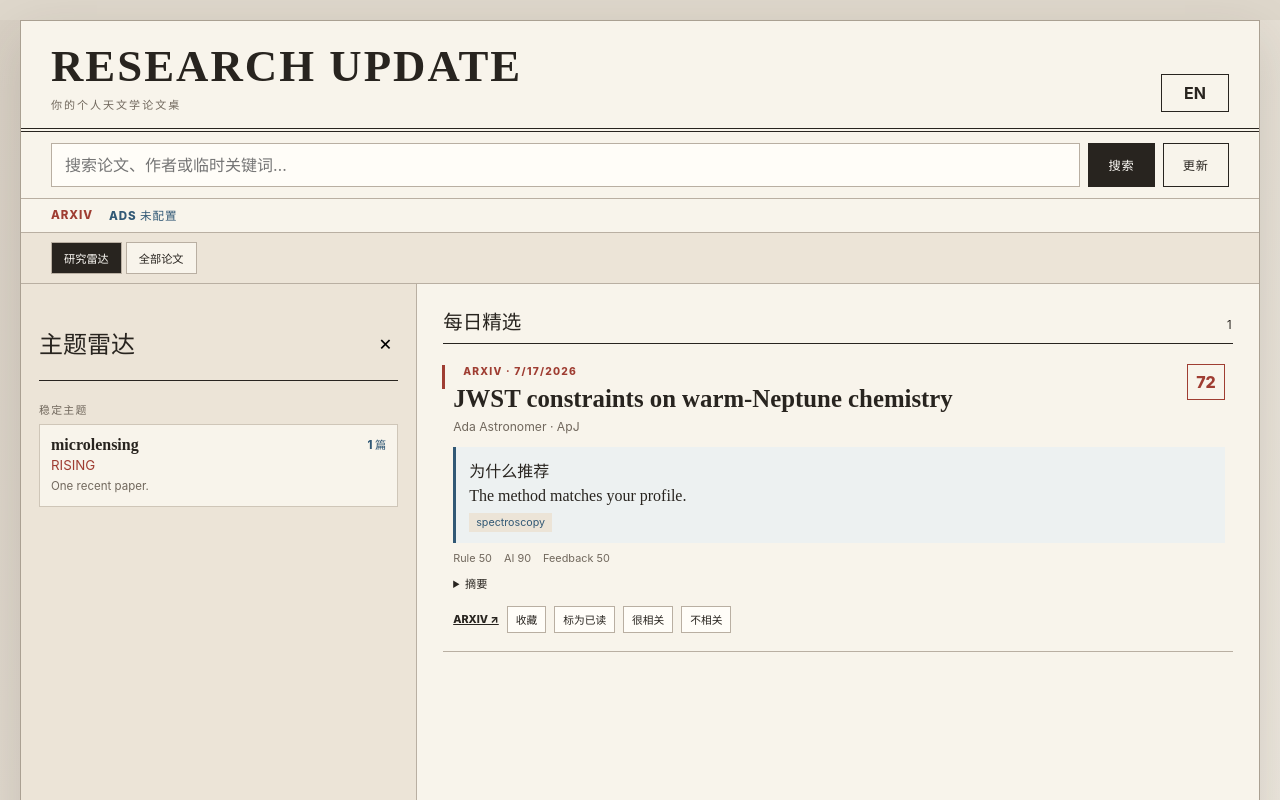
Test: Research Update dashboard › shows a selected topic's representative papers outside the daily selection
Click the button "microlensing rising 1 篇 One recent paper." at (95, 445), box top-left (39, 424), bottom-right (398, 507)
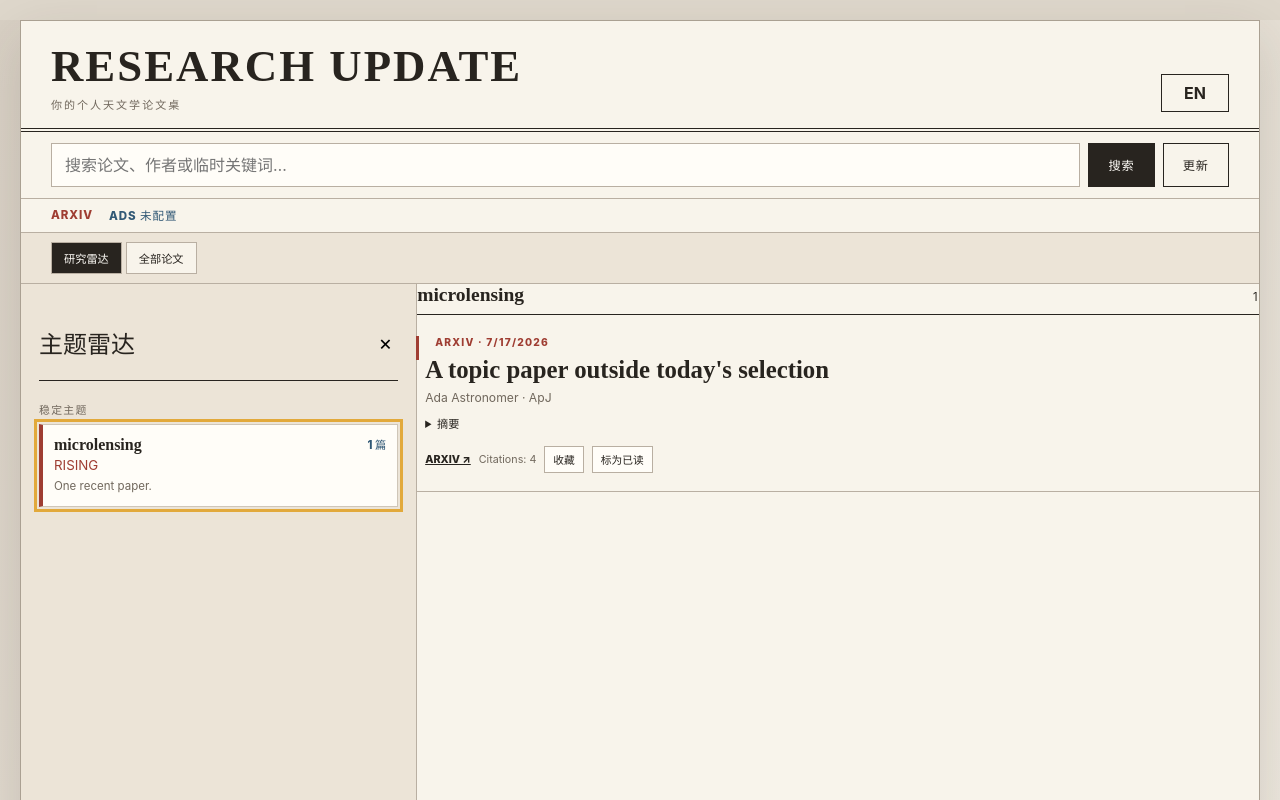
Result: the heading "A topic paper outside today's selection" is shown at top-left (425, 356), bottom-right (829, 382)
